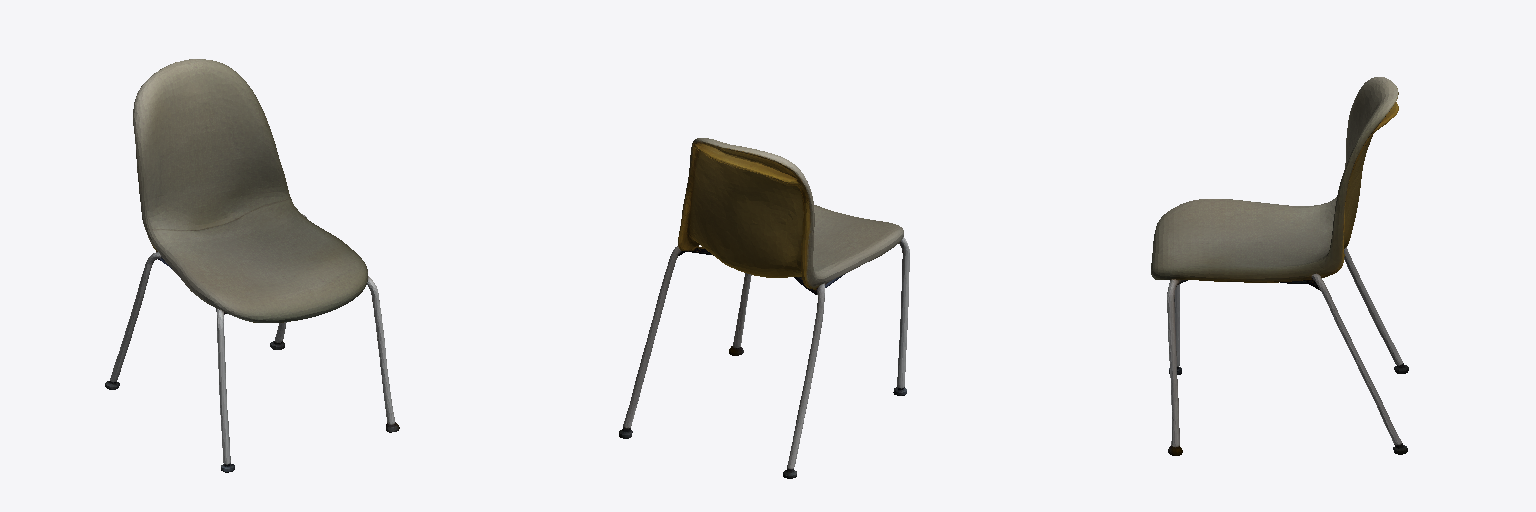
The picture shows the model from 3 angles: view 1: azimuth 30°, elevation 25°; view 2: azimuth 150°, elevation 25°; view 3: azimuth 270°, elevation 25°; orthographic projection.
Parts seen in each view (by area): view 1: geometry_0; view 2: geometry_0; view 3: geometry_0.
Part boxes in pixels (x1,y1,x2,y2): geometry_0: (105,59,399,472); geometry_0: (619,138,909,478); geometry_0: (1151,77,1408,455).
Bounding box in the file's own units: 0.6095 × 1 × 0.7497.
Materials: 1 (1 with a texture image).